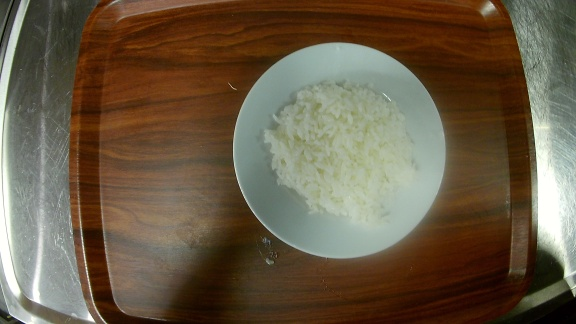pilav: (233, 42, 447, 258)
